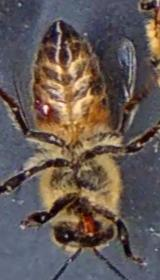varroa_mite: (24, 84, 58, 123)
